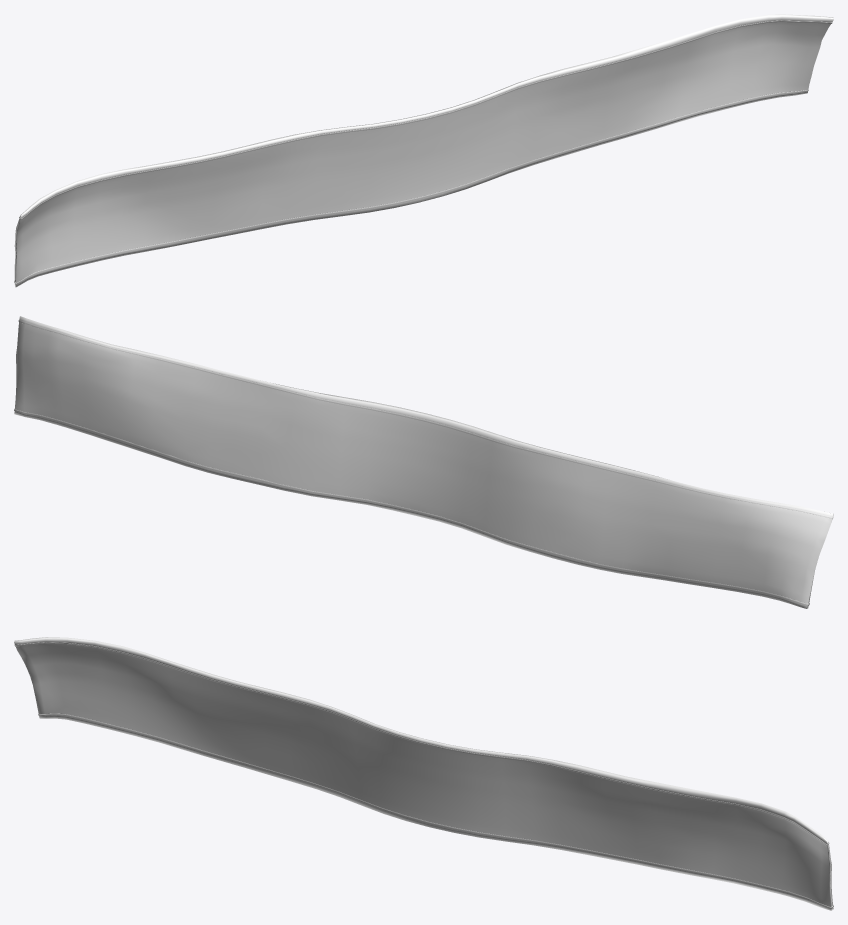
File: Jac_Flic_BEHIND_V1.glb
The picture shows the model from 3 angles, top to bottom: view 1: azimuth 30°, elevation 25°; view 2: azimuth 150°, elevation 25°; view 3: azimuth 330°, elevation 25°; orthographic projection.
Visible parts, largest first — view 1: Jac_Flic_Back_V1.001, Jac_Rope_Flic_Back_V1.001; view 2: Jac_Flic_Back_V1.001, Jac_Rope_Flic_Back_V1.001; view 3: Jac_Flic_Back_V1.001, Jac_Rope_Flic_Back_V1.001.
Part boxes in pixels (<box>): Jac_Flic_Back_V1.001: <box>14,14,833,287</box>; Jac_Rope_Flic_Back_V1.001: <box>14,20,832,284</box>; Jac_Flic_Back_V1.001: <box>14,316,833,608</box>; Jac_Rope_Flic_Back_V1.001: <box>14,320,833,605</box>; Jac_Flic_Back_V1.001: <box>14,637,833,910</box>; Jac_Rope_Flic_Back_V1.001: <box>14,642,833,908</box>.
Bounding box in the file's own units: 0.7157 × 0.086 × 0.0361.
Materials: 2 (2 with a texture image).
